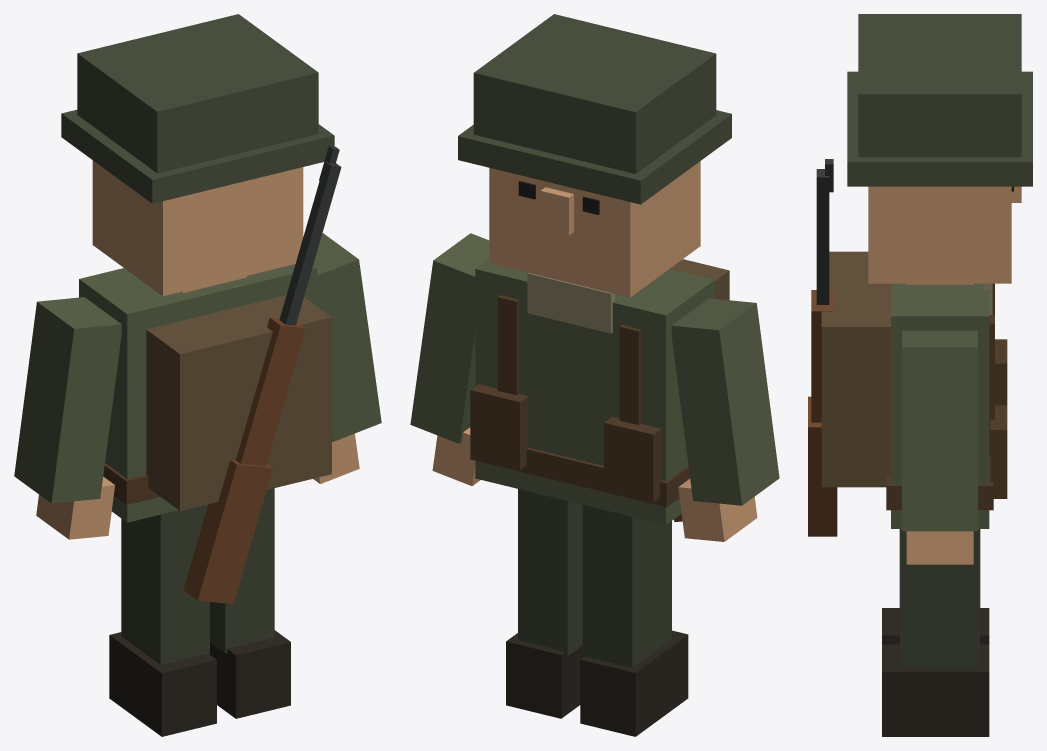
Rendered from Soldado.obj.
3 renders of one model, left to right at view 1: azimuth 30°, elevation 25°; view 2: azimuth 150°, elevation 25°; view 3: azimuth 270°, elevation 25°, orthographic. The views are drawn at different scales.
Visible parts, largest first — view 1: Mochila, Casco_Copa, Cabeza, Brazo_Izquierdo, Torso_Uniforme, Pierna_Izquierda, Casco_Visera, Brazo_Derecho, Bota_Izquierda, Fusil_Culata, Pierna_Derecha, Bota_Derecha (+5 smaller); view 2: Torso_Uniforme, Casco_Copa, Cabeza, Brazo_Izquierdo, Pierna_Izquierda, Brazo_Derecho, Pierna_Derecha, Casco_Visera, Bota_Izquierda, Bota_Derecha, Cartuchera_Der, Cartuchera_Izq (+8 smaller); view 3: Casco_Copa, Brazo_Derecho, Mochila, Cabeza, Pierna_Derecha, Torso_Uniforme, Bota_Derecha, Casco_Visera, Fusil_Culata, Mano_Derecha, Fusil_Canon, Cartuchera_Der (+5 smaller).
Part boxes in pixels (x1,y1,x2,y2): Mochila: [146, 295, 331, 510]; Casco_Copa: [77, 14, 318, 173]; Cabeza: [92, 160, 303, 296]; Brazo_Izquierdo: [14, 297, 121, 503]; Torso_Uniforme: [79, 264, 316, 522]; Pierna_Izquierda: [121, 504, 209, 664]; Casco_Visera: [61, 109, 334, 203]; Brazo_Derecho: [313, 233, 381, 441]; Bota_Izquierda: [109, 632, 216, 736]; Fusil_Culata: [183, 459, 272, 603]; Pierna_Derecha: [210, 488, 274, 653]; Bota_Derecha: [210, 630, 290, 718]; Torso_Uniforme: [475, 259, 714, 524]; Casco_Copa: [473, 14, 716, 173]; Cabeza: [489, 161, 700, 297]; Brazo_Izquierdo: [671, 298, 779, 505]; Pierna_Izquierda: [582, 505, 671, 667]; Brazo_Derecho: [410, 233, 489, 443]; Pierna_Derecha: [518, 489, 582, 655]; Casco_Visera: [458, 110, 731, 204]; Bota_Izquierda: [580, 630, 688, 736]; Bota_Derecha: [506, 633, 582, 718]; Cartuchera_Der: [470, 384, 528, 469]; Cartuchera_Izq: [604, 416, 661, 502]; Casco_Copa: [858, 14, 1021, 157]; Brazo_Derecho: [902, 330, 977, 531]; Mochila: [821, 251, 890, 487]; Cabeza: [868, 186, 1011, 283]; Pierna_Derecha: [899, 529, 980, 668]; Torso_Uniforme: [891, 283, 989, 528]; Bota_Derecha: [882, 644, 989, 736]; Casco_Visera: [847, 71, 1032, 186]; Fusil_Culata: [808, 396, 837, 536]; Mano_Derecha: [906, 531, 973, 564]; Fusil_Canon: [816, 169, 829, 304]; Cartuchera_Der: [990, 405, 1007, 498].
Size of the model in its own units: 1.09 by 2.01 by 0.6281.
1 material, 1 textured.
